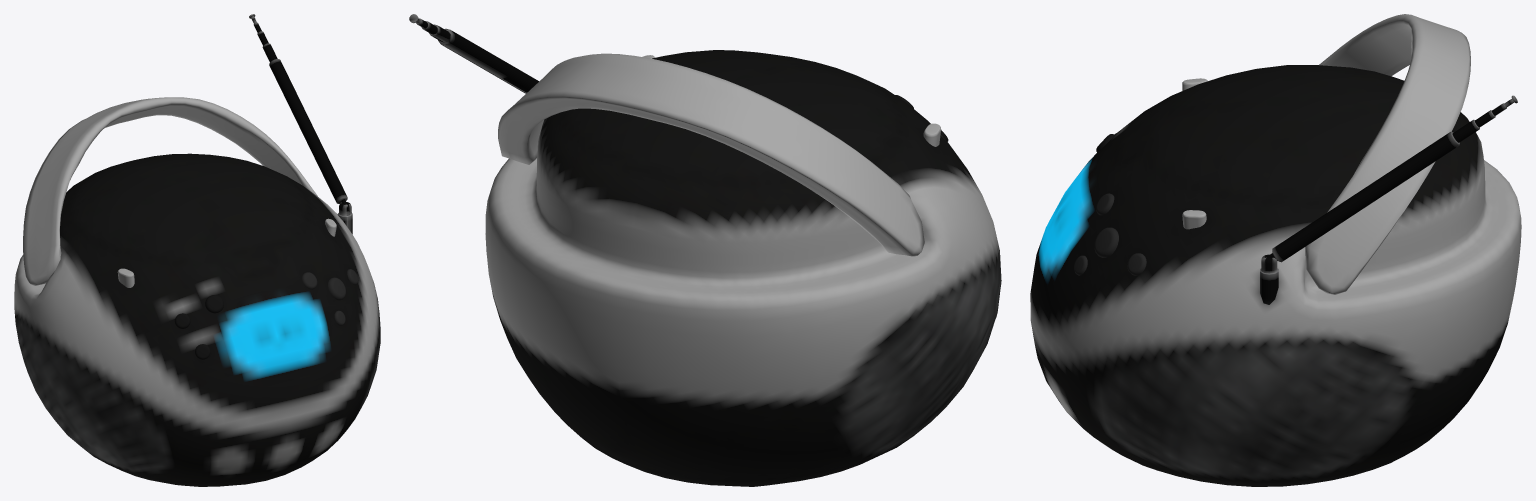
File: BoomBox.gltf
3 renders of one model, left to right at view 1: azimuth 30°, elevation 25°; view 2: azimuth 150°, elevation 25°; view 3: azimuth 270°, elevation 25°, orthographic. The views are drawn at different scales.
Visible parts, largest first — view 1: BoomBox; view 2: BoomBox; view 3: BoomBox.
Part boxes in pixels (x1,y1,x2,y2): BoomBox: (14,14,380,486); BoomBox: (409,14,1001,486); BoomBox: (1030,14,1521,486).
Bounding box in the file's own units: 0.0198 × 0.0195 × 0.0202.
1 material, 1 textured.
